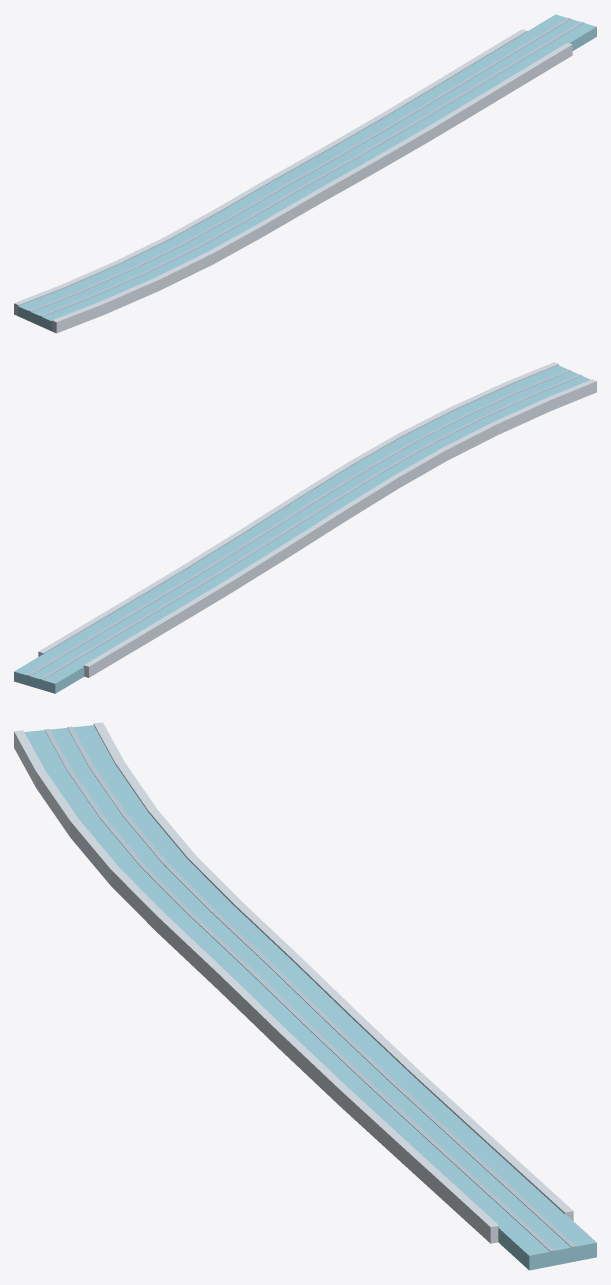
Rendered from Road_4_0_0.fbx.
The picture shows the model from 3 angles, top to bottom: view 1: azimuth 30°, elevation 25°; view 2: azimuth 210°, elevation 25°; view 3: azimuth 270°, elevation 25°; orthographic projection. The views are drawn at different scales.
Parts seen in each view (by area): view 1: Road_4_0_0; view 2: Road_4_0_0; view 3: Road_4_0_0.
Part boxes in pixels (bbox=[...]): Road_4_0_0: bbox=[14, 14, 596, 333]; Road_4_0_0: bbox=[14, 362, 596, 693]; Road_4_0_0: bbox=[14, 722, 596, 1270].
Size of the model in its own units: 13281 by 303 by 6254.
